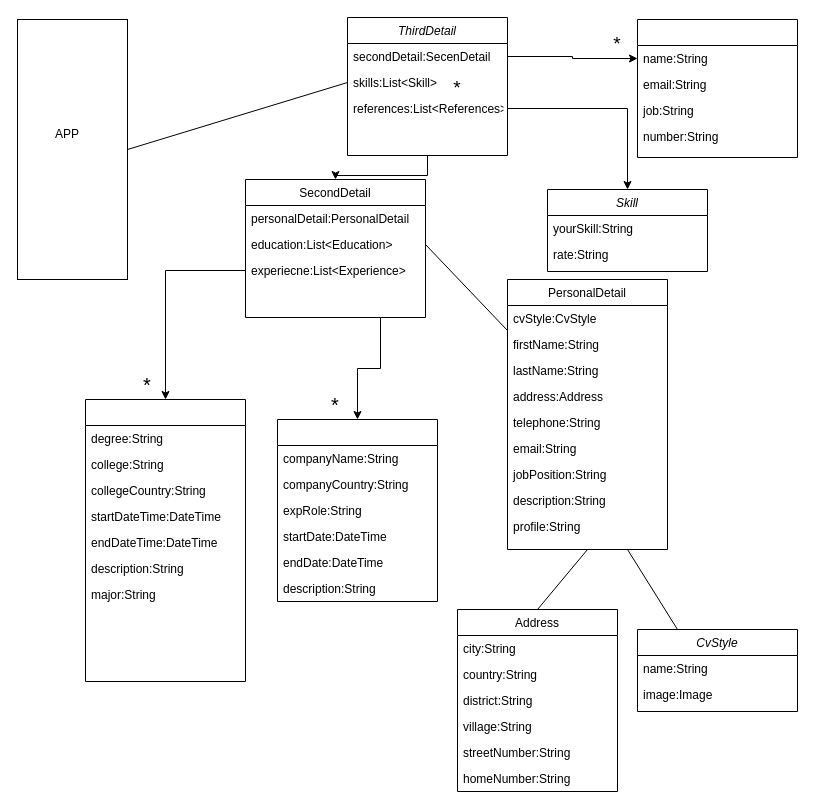
The diagram is 815 pixels wide and 812 high, and some of its shapes have lost their labels. Each missing label, with the box of its shape:
Education: (84, 398, 246, 682)
Experience: (276, 418, 438, 602)
Reference: (636, 18, 798, 158)
